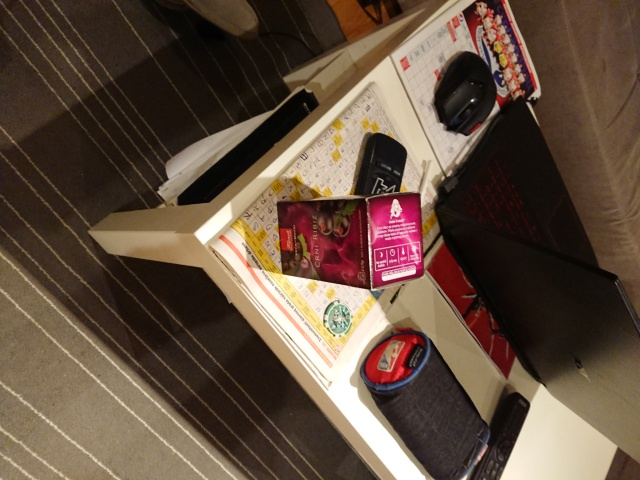Franck Black Currant Tea 60g: (275, 189, 426, 292)
